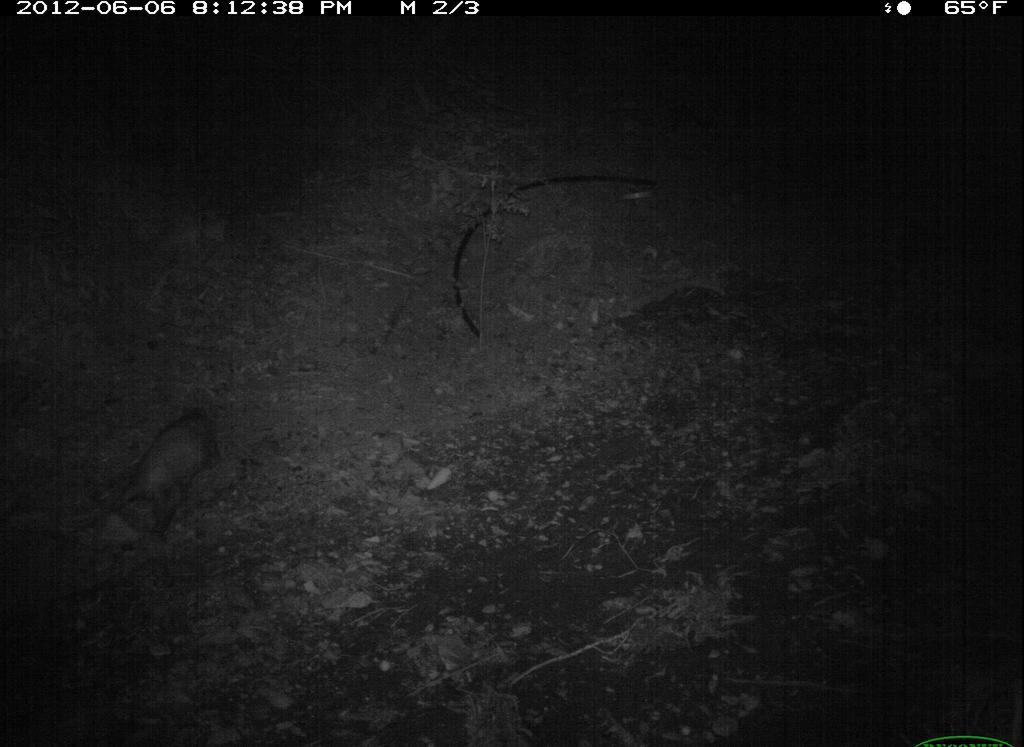opossum: (86, 399, 237, 545)
